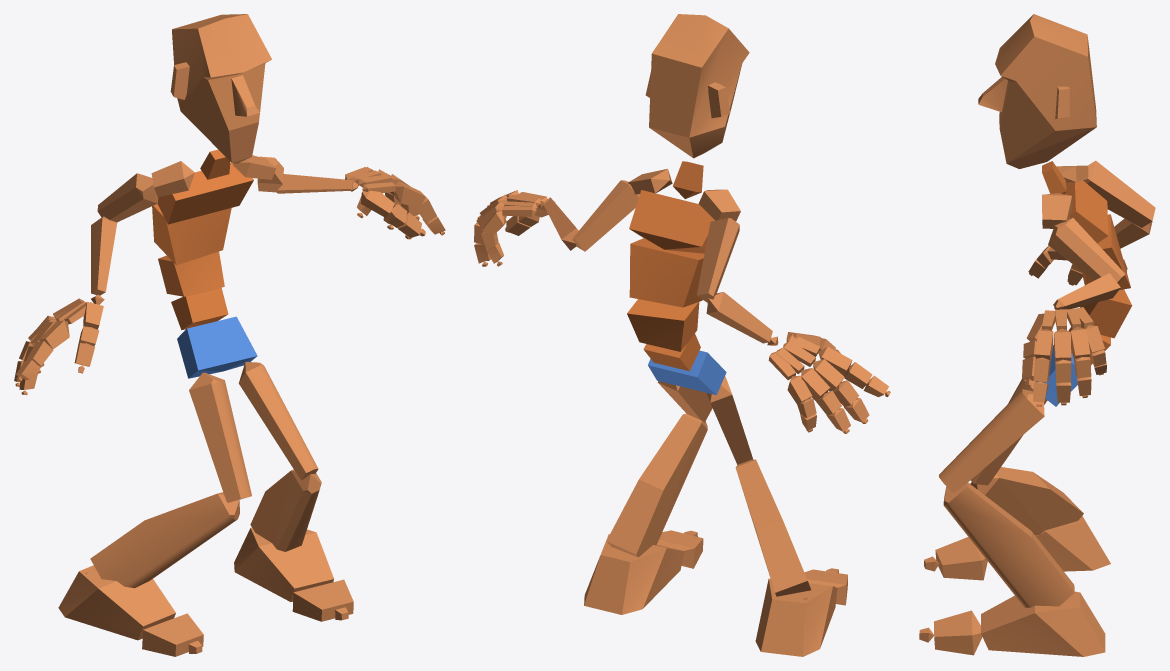
The model's file is prueba103.obj.
3 renders of one model, left to right at view 1: azimuth 30°, elevation 25°; view 2: azimuth 150°, elevation 25°; view 3: azimuth 270°, elevation 25°, orthographic.
Parts seen in each view (by area): view 1: BOPED_Head, BOPED_R_leg, BOPED_R_foot, BOPED_R_foot01, BOPED_R_legup, BOPED_L_leg, Bone01, BOPED_L_legup, Bone04, Bone05, Bone03, BOPED_R_foot_toe01 (+8 smaller); view 2: BOPED_Head, BOPED_L_leg, BOPED_R_foot01, BOPED_R_foot, BOPED_R_leg, Bone04, Bone05, Bone03, BOPED_R_arm_upper, BOPED_L_arm_upper, Bone01, BOPED_R_legup (+9 smaller); view 3: BOPED_Head, BOPED_L_leg, BOPED_R_foot01, BOPED_R_leg, BOPED_L_legup, BOPED_R_foot, BOPED_L_arm_upper, BOPED_R_arm_upper, Bone05, BOPED_R_foot_toe04, BOPED_R_foot_toe01, Bone03 (+14 smaller).
Part boxes in pixels (x1,y1,x2,y2): BOPED_Head: [170, 14, 271, 163]; BOPED_R_leg: [90, 492, 239, 588]; BOPED_R_foot: [58, 565, 175, 640]; BOPED_R_foot01: [234, 527, 333, 601]; BOPED_R_legup: [189, 372, 251, 502]; BOPED_L_leg: [250, 469, 321, 551]; Bone01: [177, 316, 257, 378]; BOPED_L_legup: [238, 362, 318, 480]; Bone04: [152, 203, 231, 265]; Bone05: [157, 162, 253, 224]; Bone03: [158, 251, 224, 296]; BOPED_R_foot_toe01: [142, 613, 203, 656]; BOPED_Head: [645, 14, 749, 158]; BOPED_L_leg: [606, 413, 707, 557]; BOPED_R_foot01: [584, 534, 684, 614]; BOPED_R_foot: [755, 578, 837, 656]; BOPED_R_leg: [735, 459, 810, 596]; Bone04: [629, 238, 704, 307]; Bone05: [629, 190, 714, 253]; Bone03: [627, 299, 699, 351]; BOPED_R_arm_upper: [696, 218, 739, 302]; BOPED_L_arm_upper: [572, 180, 639, 251]; Bone01: [648, 350, 726, 394]; BOPED_R_legup: [707, 376, 752, 464]; BOPED_Head: [978, 14, 1096, 168]; BOPED_L_leg: [943, 482, 1074, 607]; BOPED_R_foot01: [981, 591, 1105, 656]; BOPED_R_leg: [970, 467, 1083, 535]; BOPED_L_legup: [939, 389, 1044, 493]; BOPED_R_foot: [1035, 516, 1110, 571]; BOPED_L_arm_upper: [1048, 218, 1125, 283]; BOPED_R_arm_upper: [1083, 160, 1155, 227]; Bone05: [1065, 180, 1108, 243]; BOPED_R_foot_toe04: [934, 610, 982, 655]; BOPED_R_foot_toe01: [935, 537, 987, 580]; Bone03: [1080, 289, 1132, 338].
Size of the model in its own units: 130 by 173 by 62.69.
